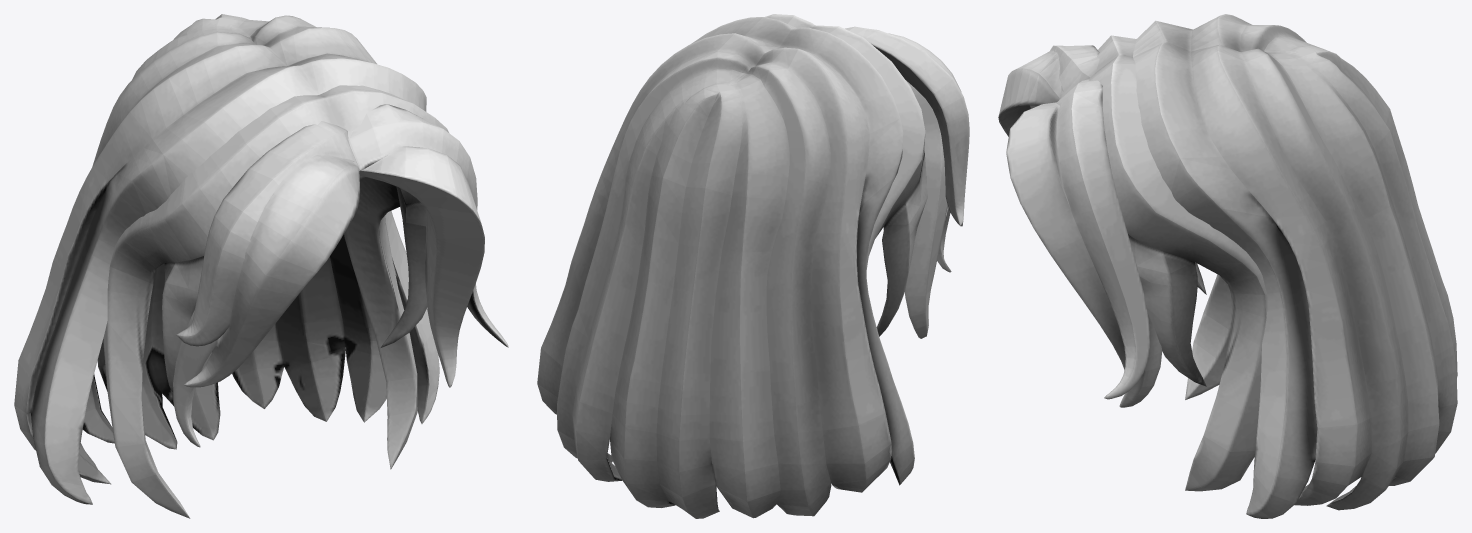
The model's file is hair-long.glb.
3 views of the same model, side by side, from view 1: azimuth 30°, elevation 25°; view 2: azimuth 150°, elevation 25°; view 3: azimuth 270°, elevation 25° (orthographic). The views are drawn at different scales.
Parts seen in each view (by area): view 1: hair-long; view 2: hair-long; view 3: hair-long.
Part boxes in pixels (x1,y1,x2,y2): hair-long: (14, 14, 508, 518); hair-long: (537, 14, 969, 518); hair-long: (998, 14, 1457, 518).
Size of the model in its own units: 0.2447 by 0.278 by 0.2677.
Materials: 1 (1 with a texture image).
